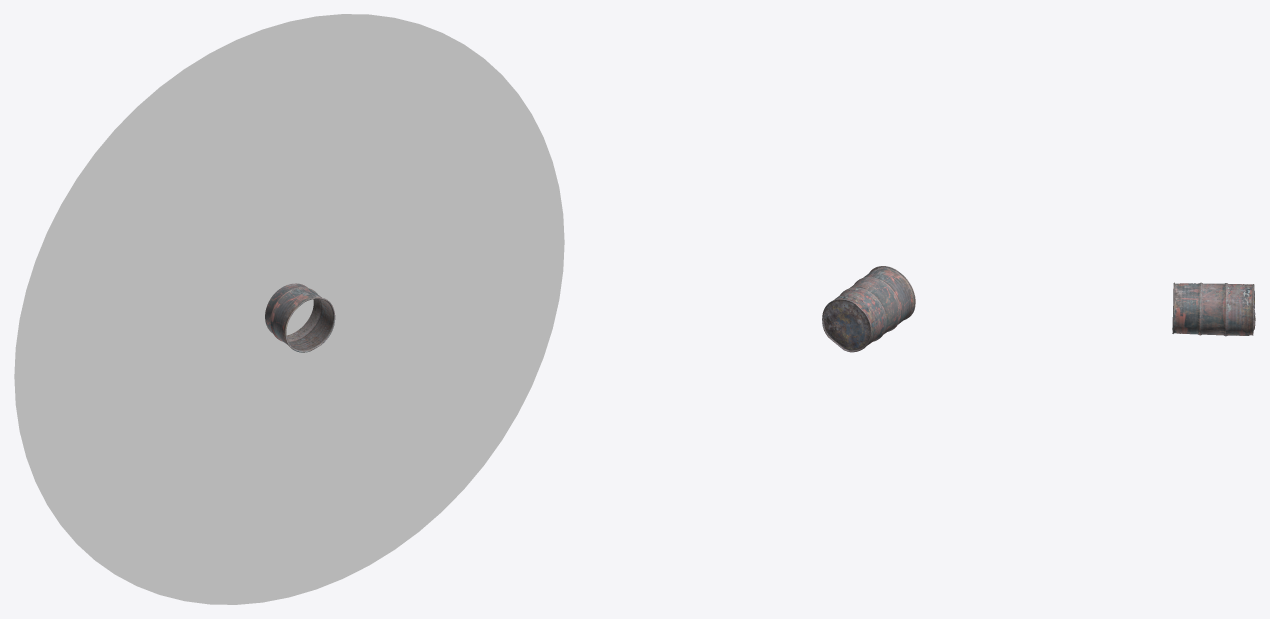
The model's file is old-tin-barrel-20f1eb.glb.
3 views of the same model, side by side, from view 1: azimuth 30°, elevation 25°; view 2: azimuth 150°, elevation 25°; view 3: azimuth 270°, elevation 25° (orthographic). The views are drawn at different scales.
Parts seen in each view (by area): view 1: PropMesh; view 2: PropMesh; view 3: PropMesh.
Part boxes in pixels (x1,y1,x2,y2): PropMesh: [14, 14, 564, 604]; PropMesh: [822, 266, 915, 352]; PropMesh: [1172, 282, 1255, 336].
Bounding box in the file's own units: 2.2 × 2.2 × 0.3099.
Materials: 2 (2 with a texture image).
